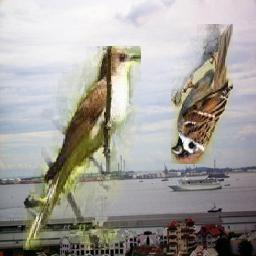Cuckoo: (23, 46, 141, 250)
Sparrow: (171, 24, 233, 164)
